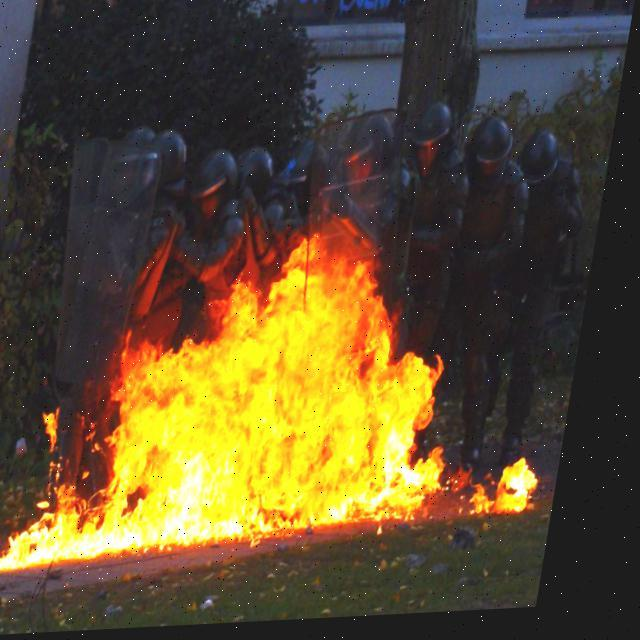Fire: (6, 216, 589, 574)
